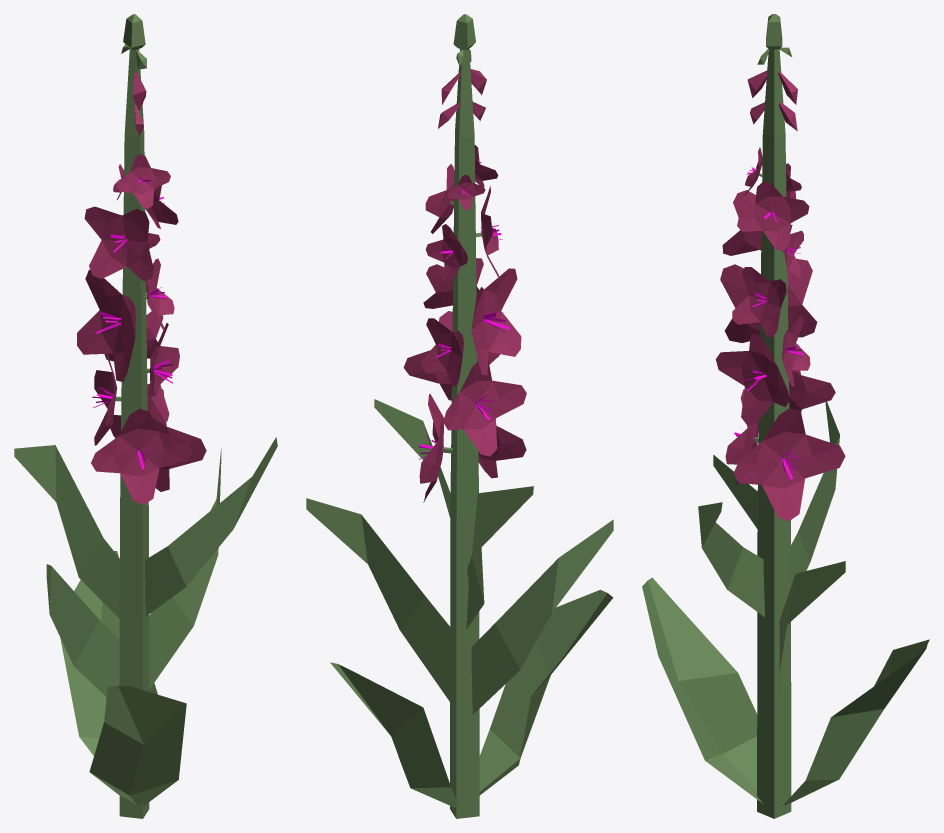
The model's file is Willowherb.fbx.
3 renders of one model, left to right at view 1: azimuth 30°, elevation 25°; view 2: azimuth 150°, elevation 25°; view 3: azimuth 270°, elevation 25°, orthographic.
Parts seen in each view (by area): view 1: Willowherb_LOD0; view 2: Willowherb_LOD0; view 3: Willowherb_LOD0.
Part boxes in pixels (bbox=[...]): Willowherb_LOD0: bbox=[14, 14, 277, 818]; Willowherb_LOD0: bbox=[306, 14, 613, 818]; Willowherb_LOD0: bbox=[642, 14, 929, 818].
Size of what is drawn, in the model's own units: 61.18 by 193 by 63.3.
